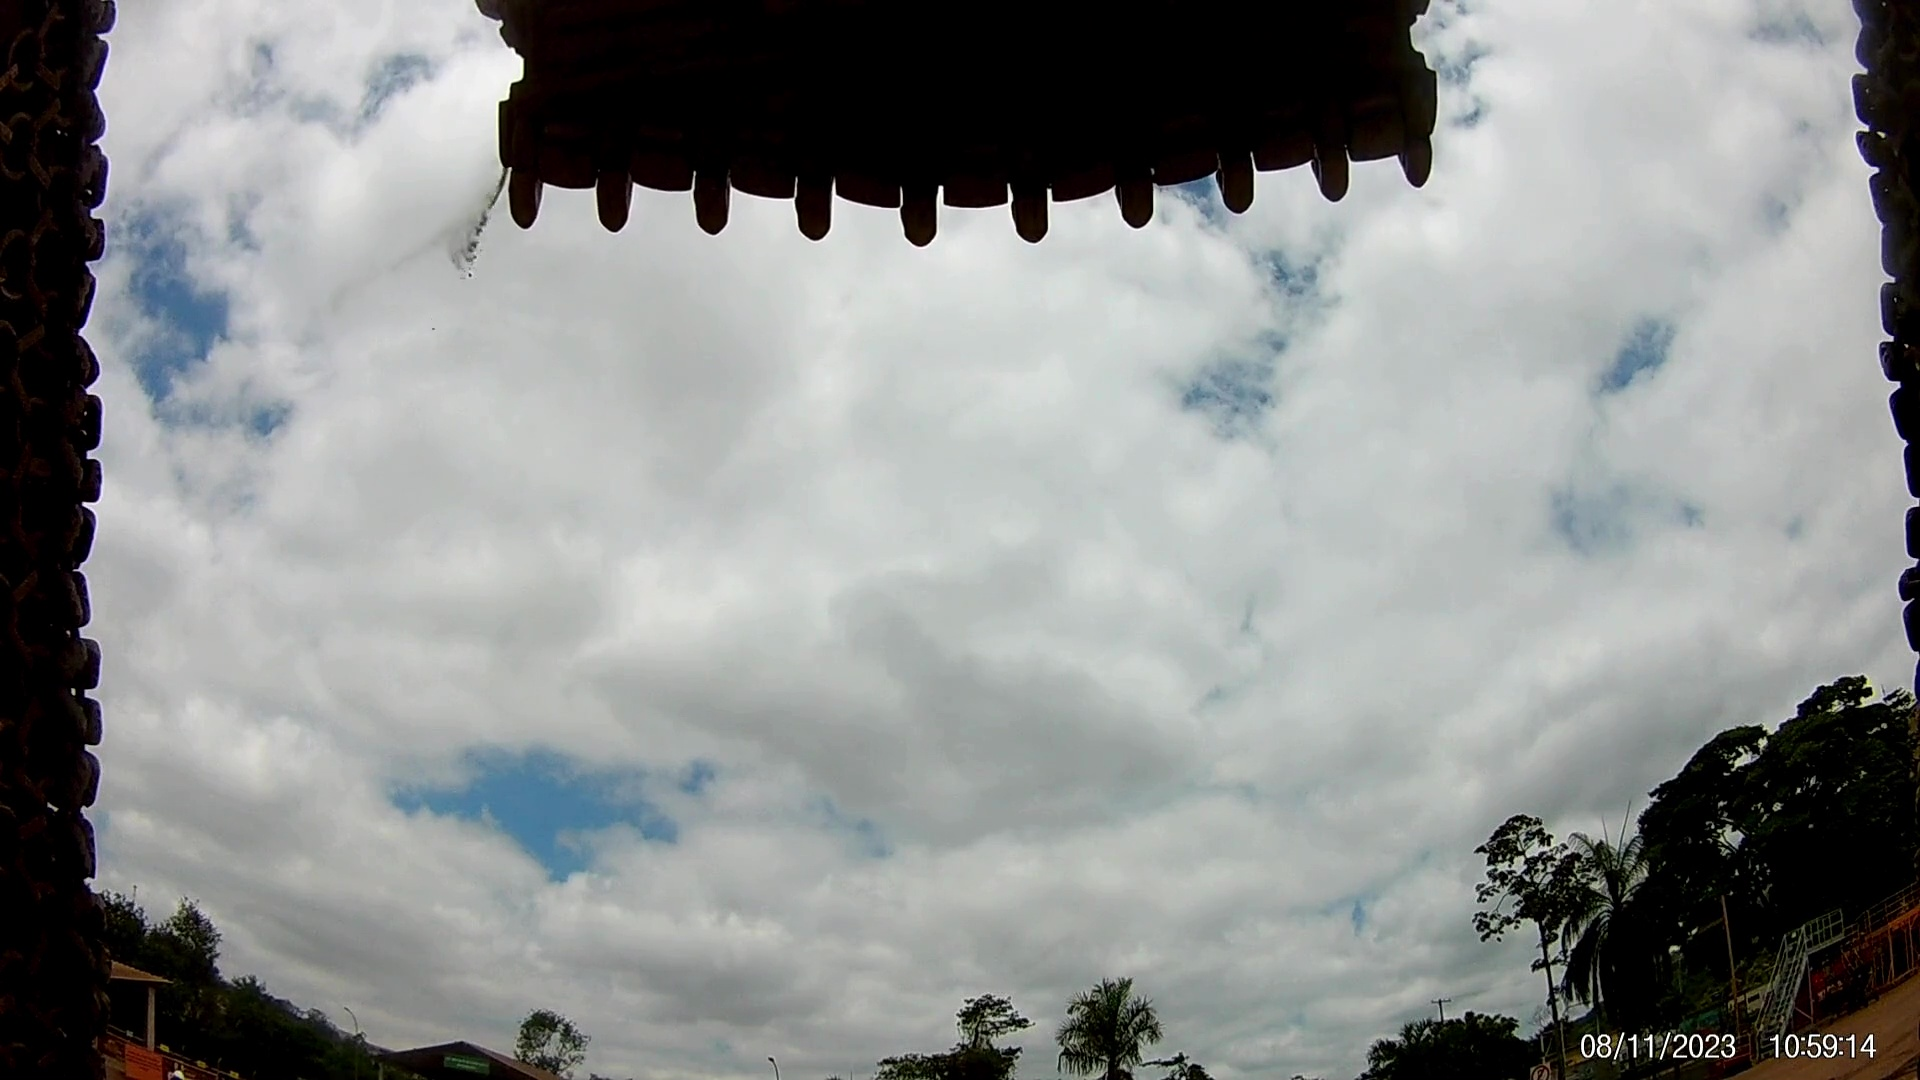FPS: (1044, 407, 1193, 472), (1051, 315, 1199, 378), (1097, 109, 1236, 165), (1048, 495, 1160, 560), (1027, 775, 1154, 831), (1025, 597, 1137, 659), (1018, 862, 1156, 913), (1080, 212, 1208, 265), (1051, 924, 1149, 988), (1025, 698, 1130, 742)
